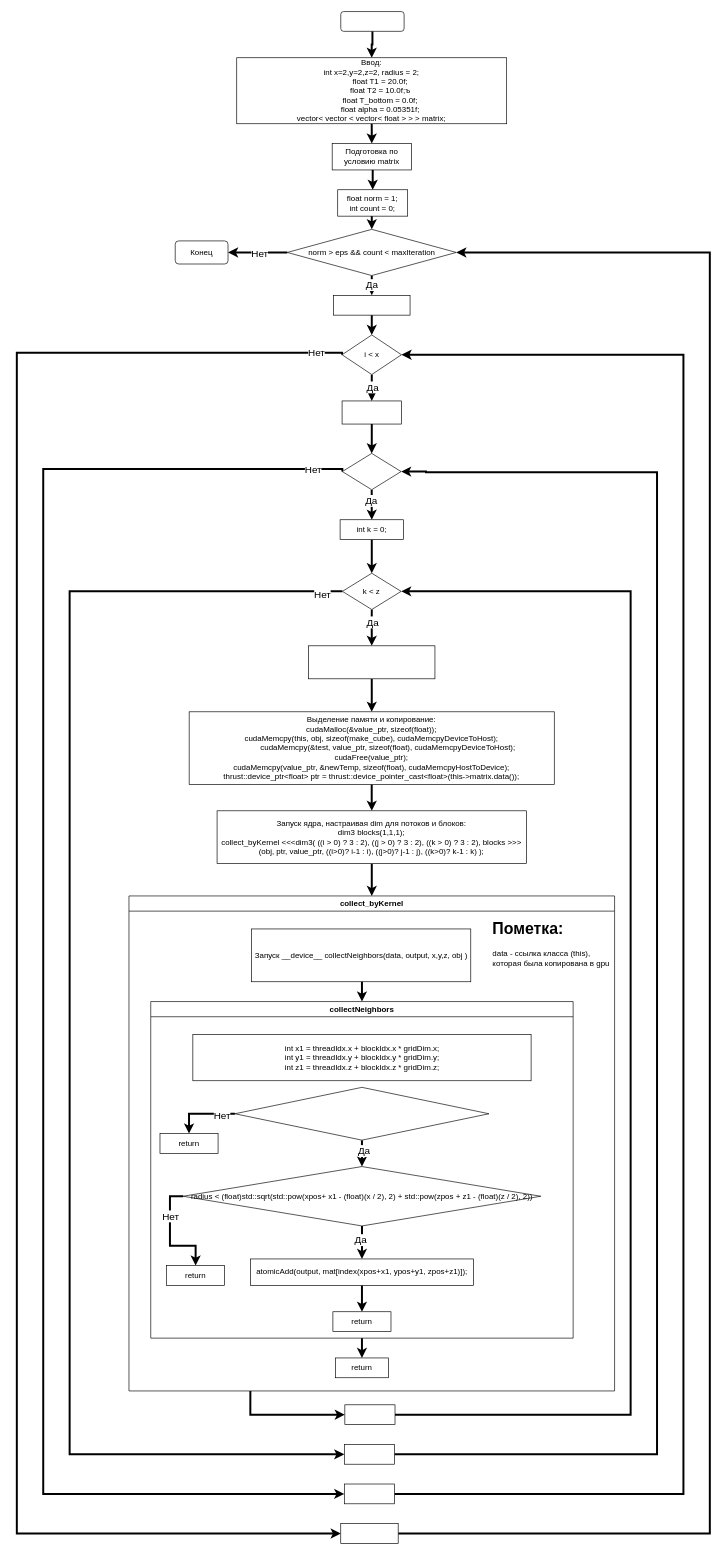
Some shapes in this 727 by 1555 pixel diagram are drawn without their labels. Here are the shapes that lost their labels. From the top down, the centre of each, then its label:
At pixel 372 21: "Начало".
At pixel 371 305: "int i =0;".
At pixel 371 412: "int j = 0;".
At pixel 371 471: "j < y".
At pixel 371 662: "float oldTemp = this->matrix[i][j][k]; float newTemp = 0.0f; float * value_ptr;".
At pixel 361 1113: "x1+xpos >= this->x || y1+ypos >= y || z1+zpos >= z".
At pixel 369 1414: "k++;".
At pixel 369 1454: "j++;".
At pixel 369 1493: "i++;".
At pixel 369 1533: "count++;".
